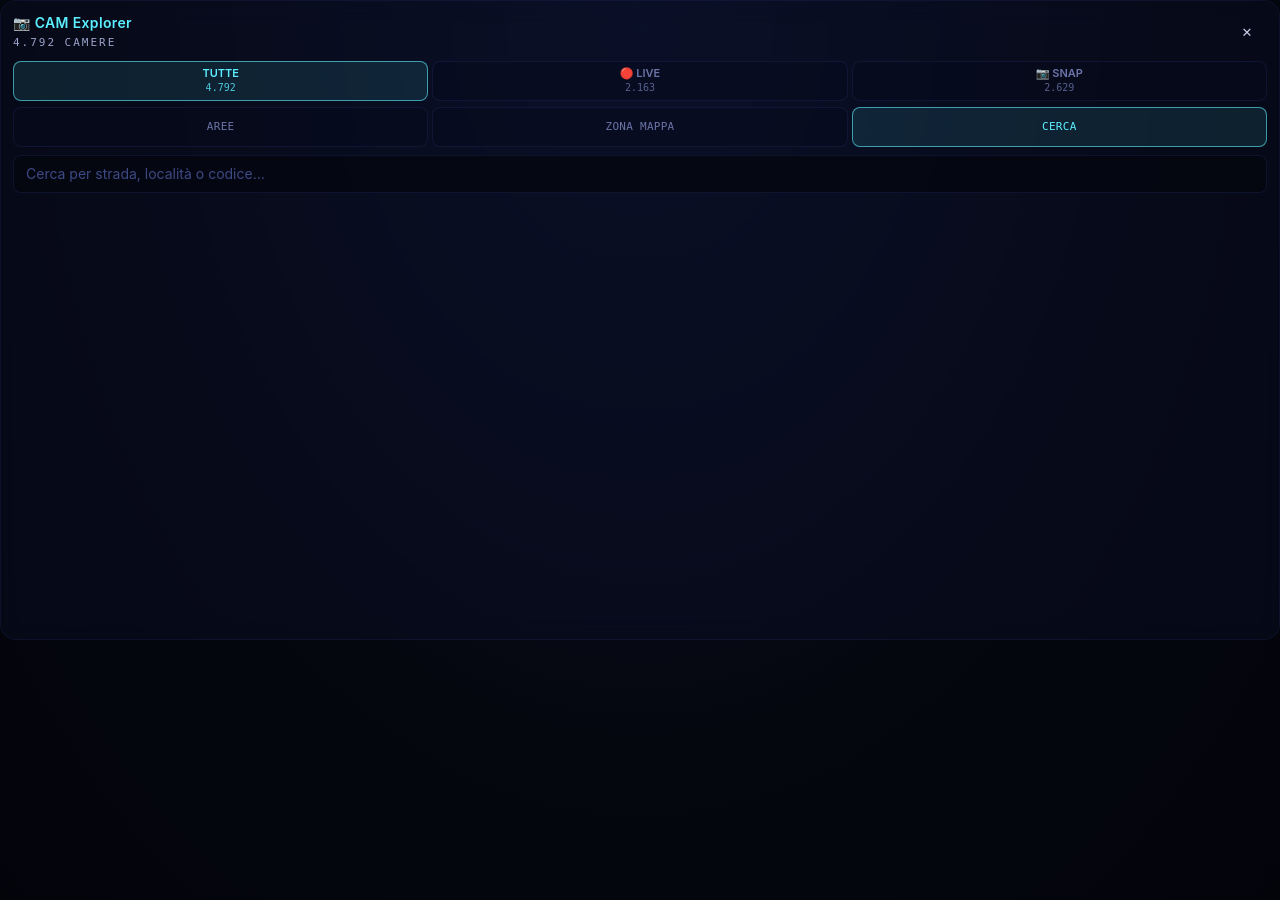
Test: CAM Explorer — Italia (data-driven) › ricerca "Etna" e "Eolie"
In the search field: (640, 174) left=13, top=155, right=1267, bottom=193, type "Etna"
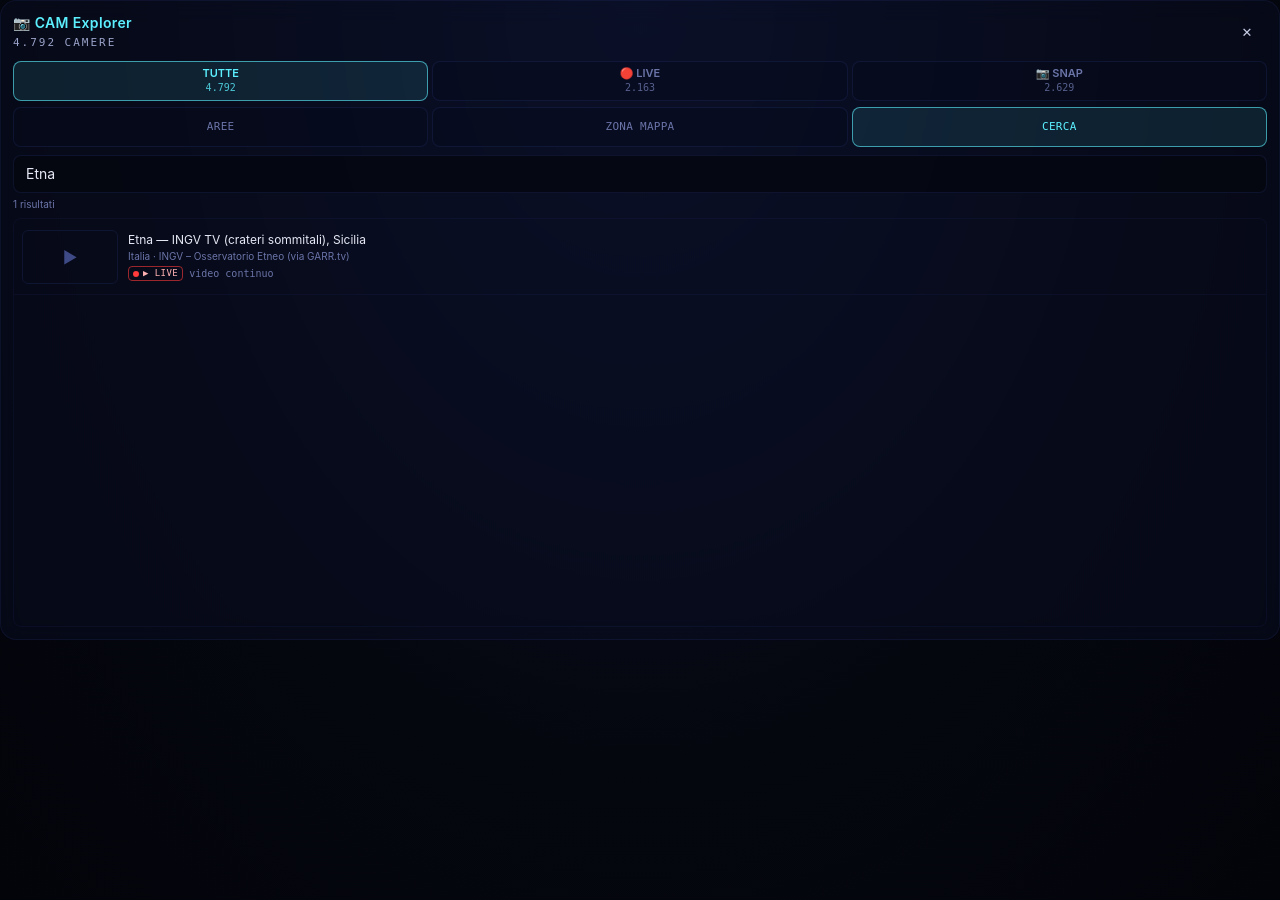
expect the list item shows "Etna": met, box left=14, top=219, right=1266, bottom=295
Replace the text in the search field with "eolie": (640, 174) left=13, top=155, right=1267, bottom=193
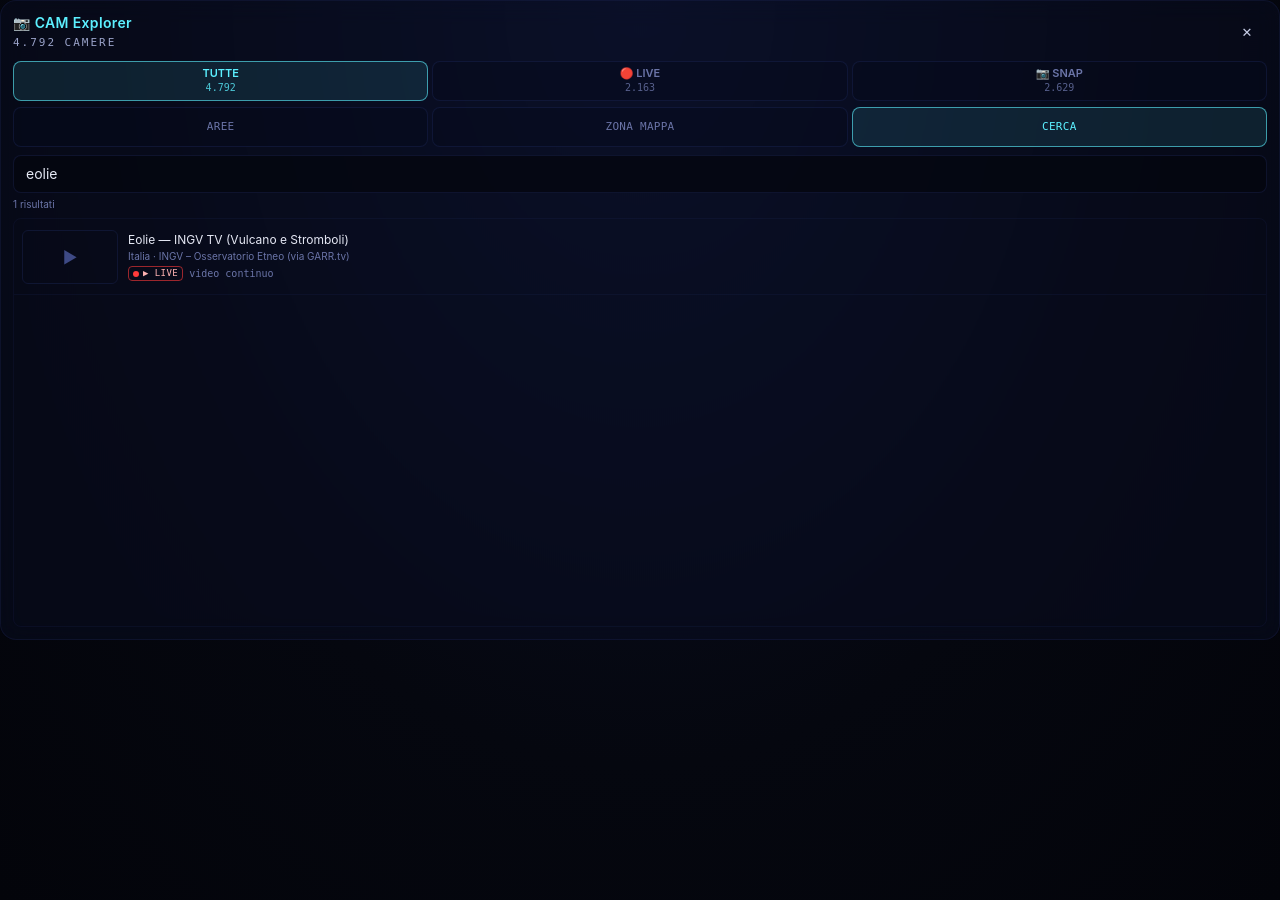
expect the list item shows "Eolie": met, box left=14, top=219, right=1266, bottom=295
